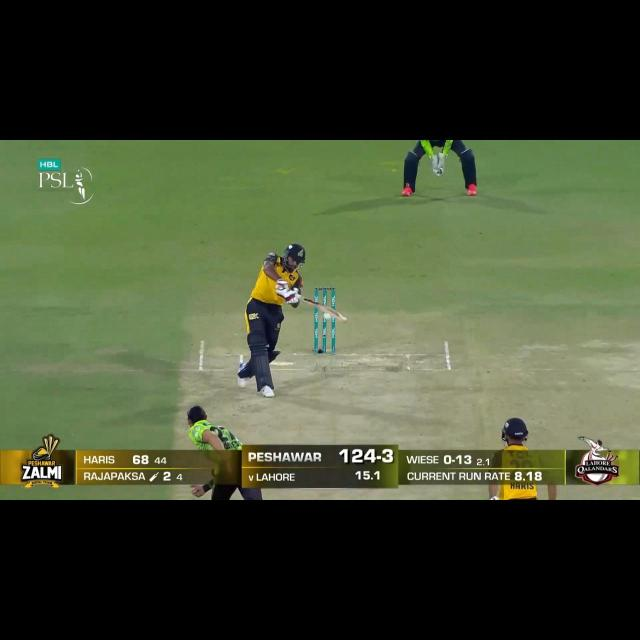bat: (297, 288, 348, 324)
toe: (331, 312, 346, 323)
